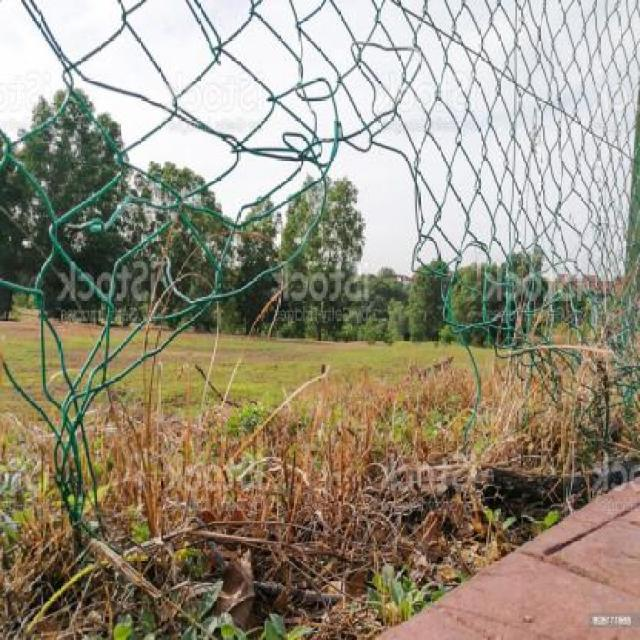fence line: (220, 133, 522, 509)
